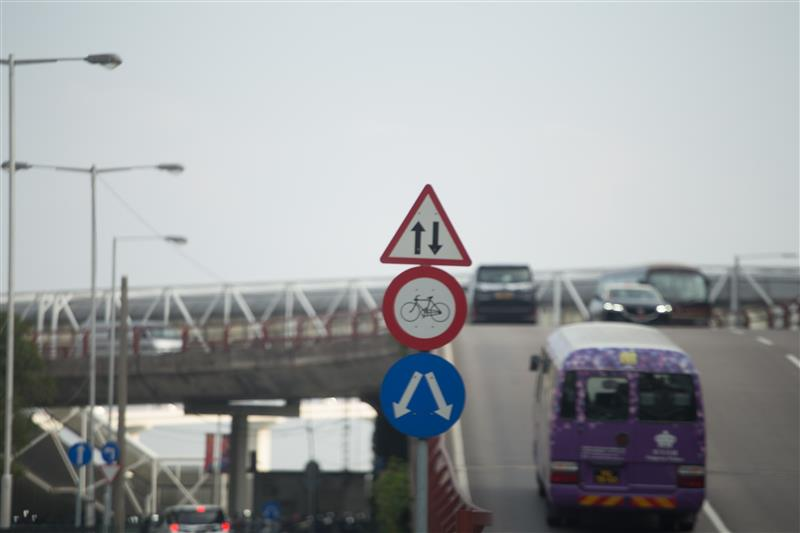keepLeftRight: (379, 353, 466, 438)
noCycles: (382, 264, 468, 352)
twowayRoad: (379, 183, 473, 267)
